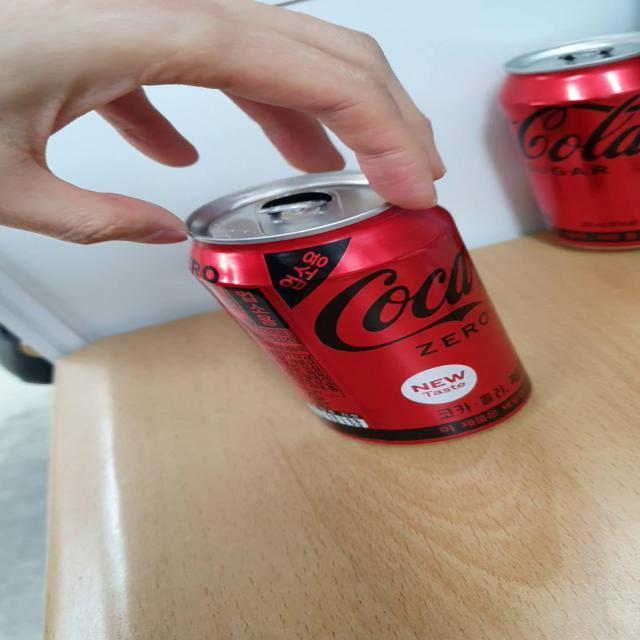coca-cola: (168, 151, 536, 469), (488, 23, 640, 256)
